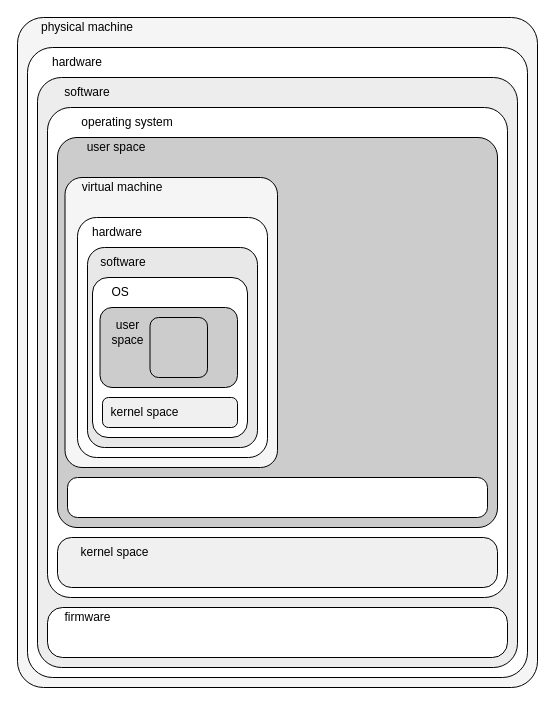
Image size: 555x705. Some labels were removed from this diagram. Each missing label, with the box of its shape:
container: (149, 316, 208, 378)
hypervisor: (66, 476, 488, 518)
